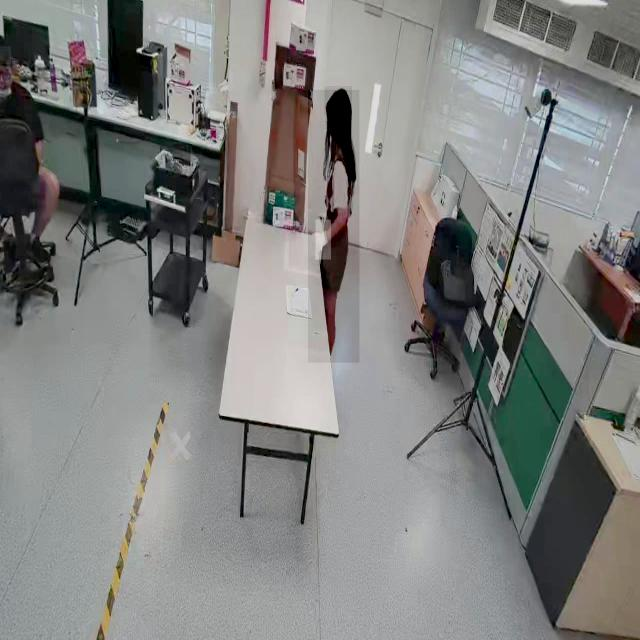hand_glove: (316, 220, 332, 260)
head_nohelmet: (324, 86, 352, 116), (0, 46, 12, 65)
person: (0, 46, 58, 300), (308, 90, 360, 363)
shoes: (24, 229, 50, 267), (0, 233, 18, 276)
